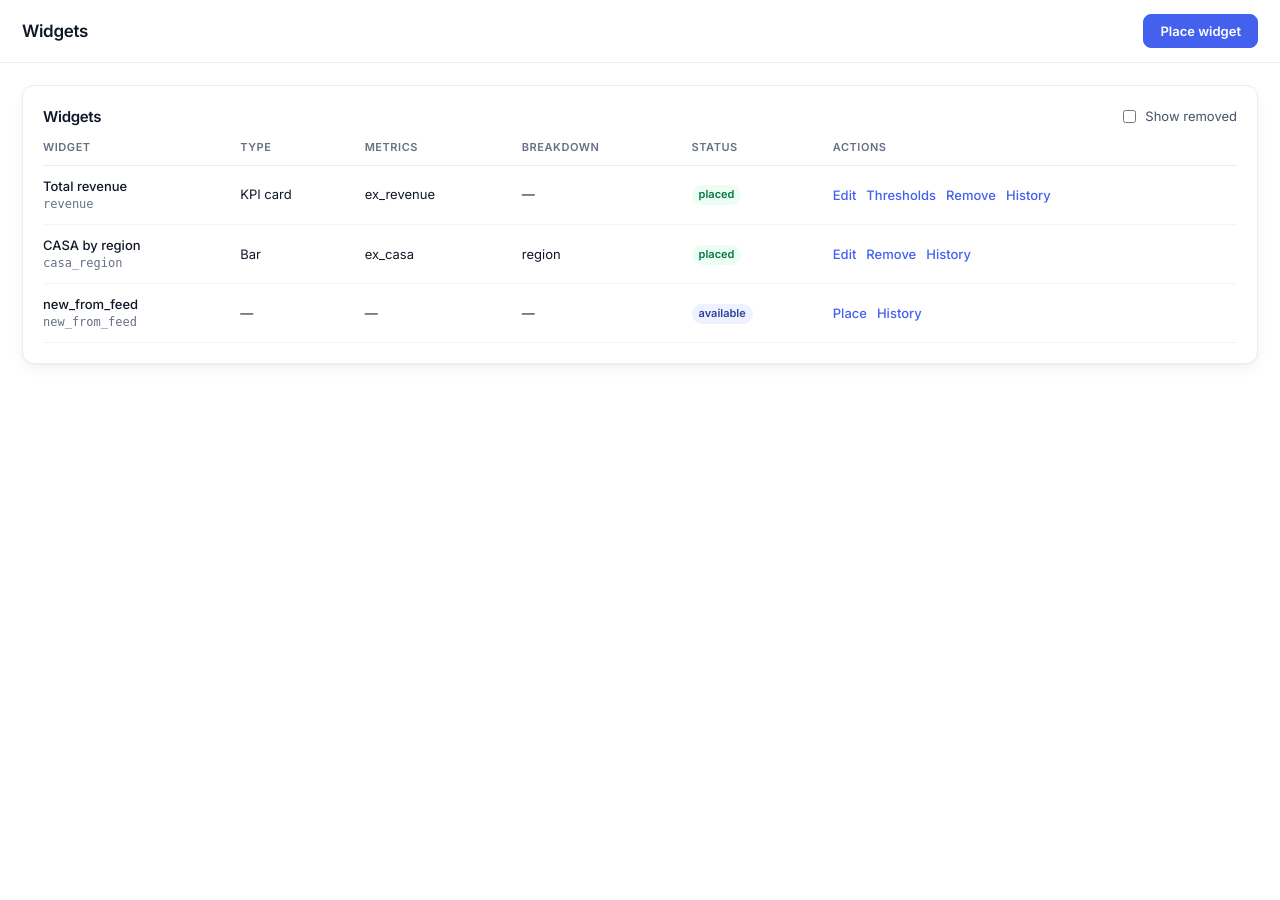
the widgets page › lists the placed widgets and opens the place form
This screenshot has width=1280, height=900.
Expected: the column heading "Total revenue revenue" is shown, [43, 166, 230, 224]
Click the button "Place widget": [1201, 31] box [1143, 14, 1258, 48]
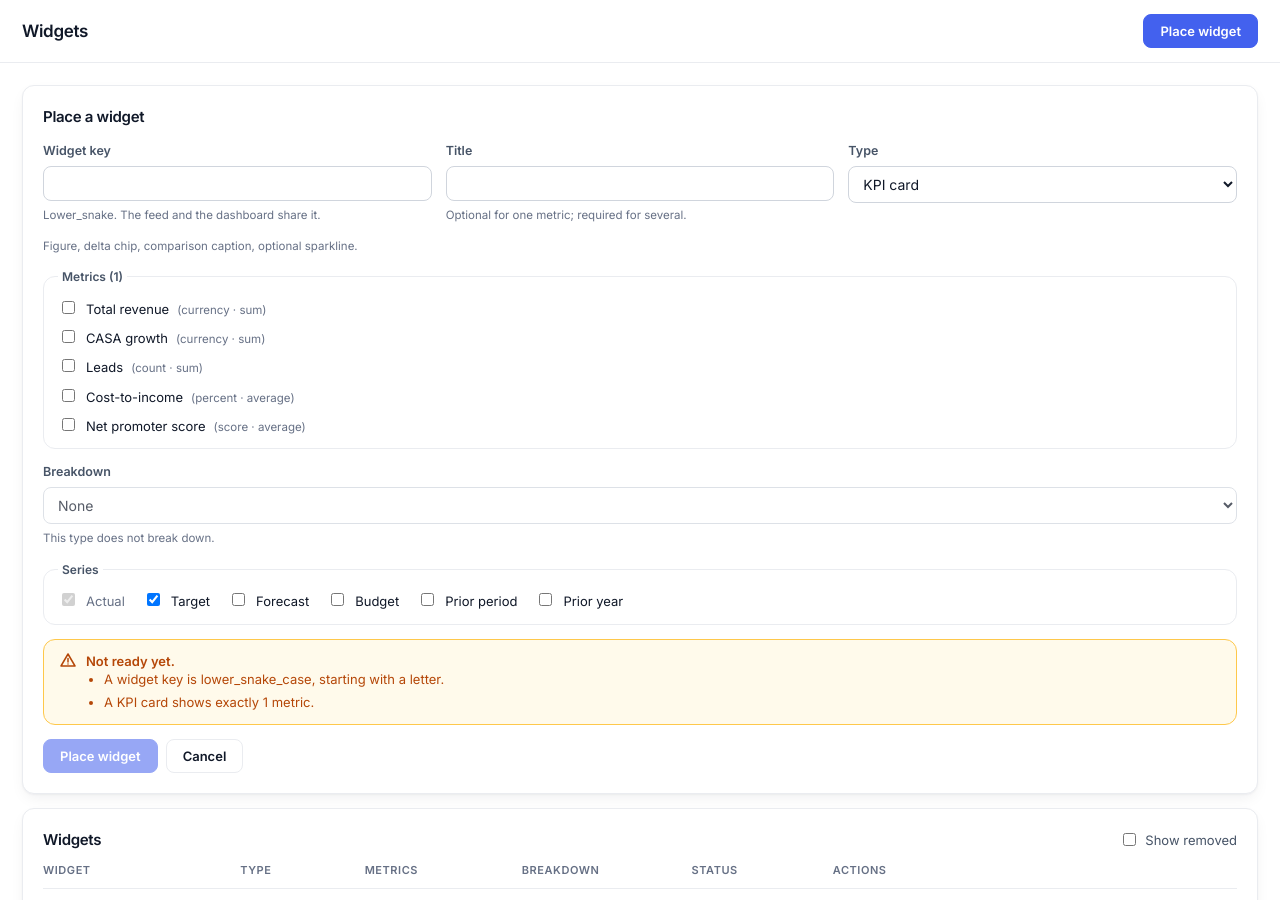
Expected: the heading "Place a widget" is shown, [43, 107, 144, 126]
Expected: the field labelled "Widget key" is shown, [43, 166, 432, 201]
